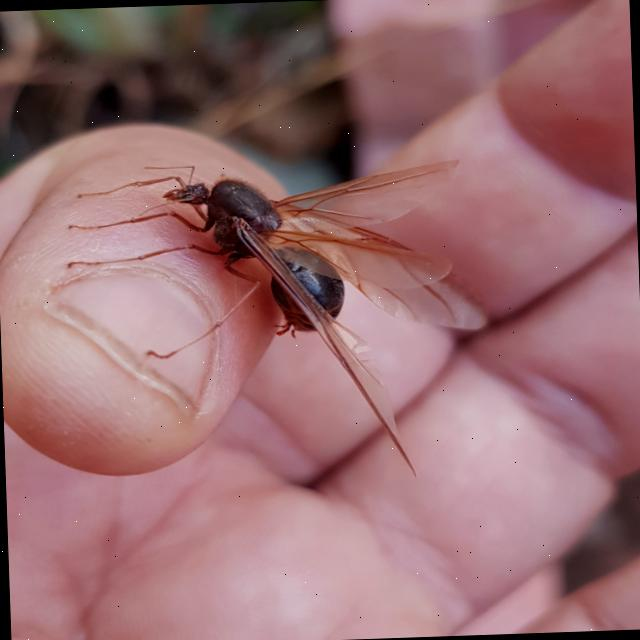Alive-Male-Alate: (62, 155, 494, 490)
